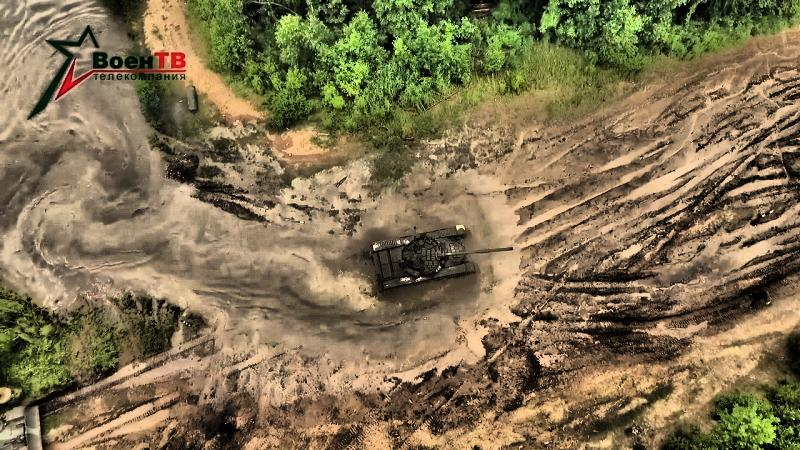military-vehicle: (371, 225, 514, 293)
